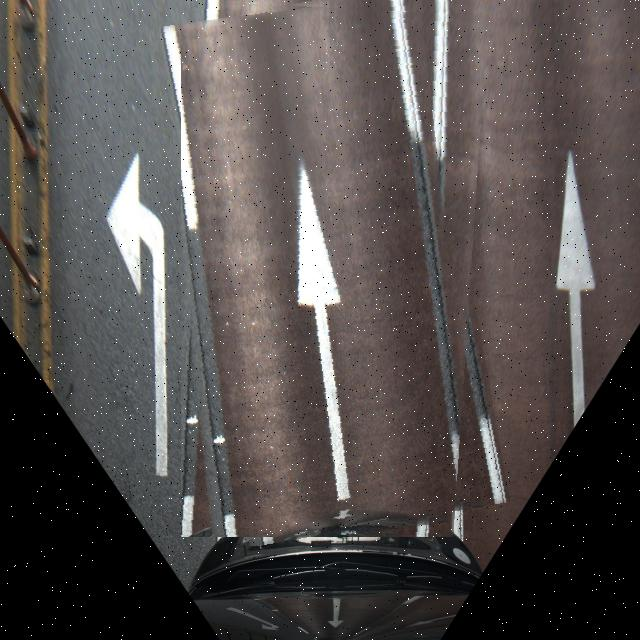forward: (181, 0, 488, 537)
